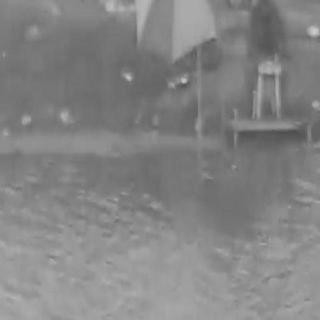other: (134, 1, 214, 70)
